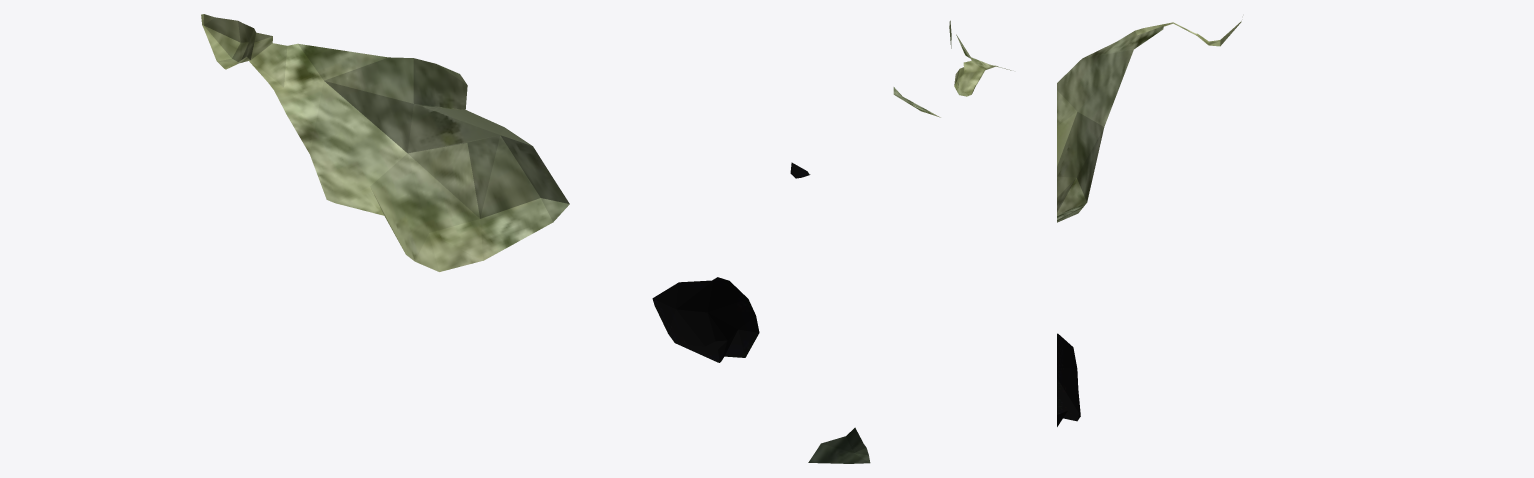
3 views of the same model, side by side, from view 1: azimuth 30°, elevation 25°; view 2: azimuth 150°, elevation 25°; view 3: azimuth 270°, elevation 25° (orthographic). The views are drawn at different scales.
Size of the model in its own units: 2.36 by 2.95 by 2.95.
Materials: 1 (1 with a texture image).
